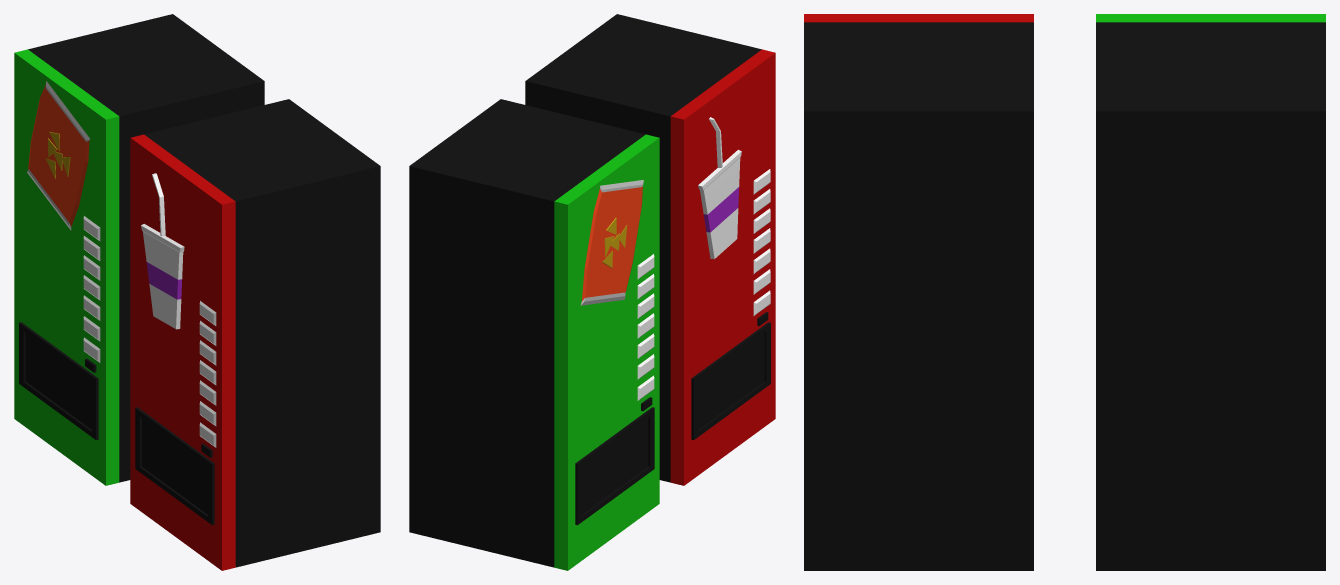
Rendered from vending.glb.
3 views of the same model, side by side, from view 1: azimuth 30°, elevation 25°; view 2: azimuth 150°, elevation 25°; view 3: azimuth 270°, elevation 25° (orthographic). The views are drawn at different scales.
Parts seen in each view (by area): view 1: Drink_Vending_Machine, Food_Vending_Machine; view 2: Food_Vending_Machine, Drink_Vending_Machine; view 3: Drink_Vending_Machine, Food_Vending_Machine.
Part boxes in pixels (x1,y1,x2,y2): Drink_Vending_Machine: (130, 99, 380, 570); Food_Vending_Machine: (14, 14, 264, 485); Food_Vending_Machine: (409, 99, 659, 570); Drink_Vending_Machine: (525, 14, 775, 485); Drink_Vending_Machine: (804, 14, 1033, 570); Food_Vending_Machine: (1096, 14, 1325, 570).
Bounding box in the file's own units: 12.02 × 25.89 × 26.62.
